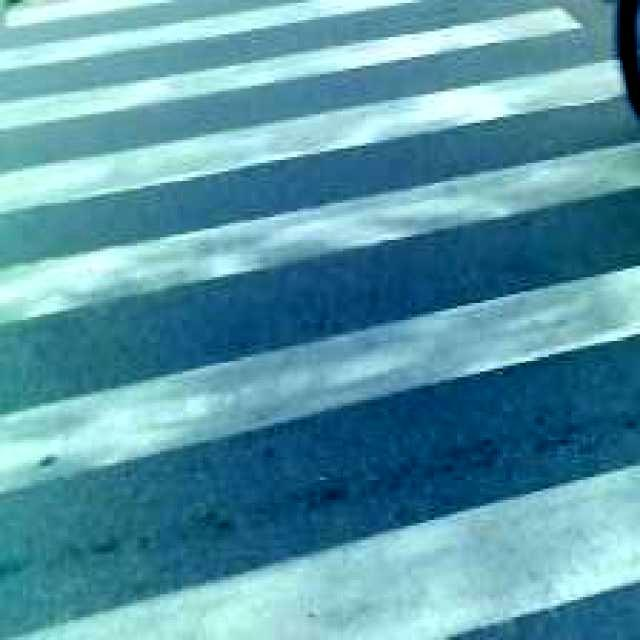crosswalk: (1, 2, 637, 637)
